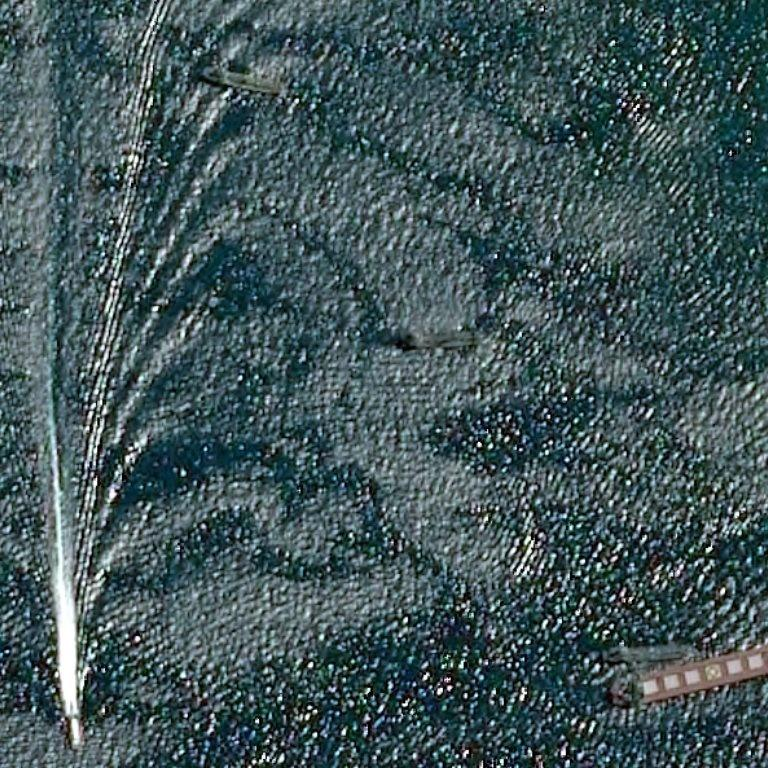ship: (605, 643, 768, 713), (202, 66, 290, 97), (14, 329, 113, 352), (569, 642, 661, 663), (69, 679, 84, 716)
